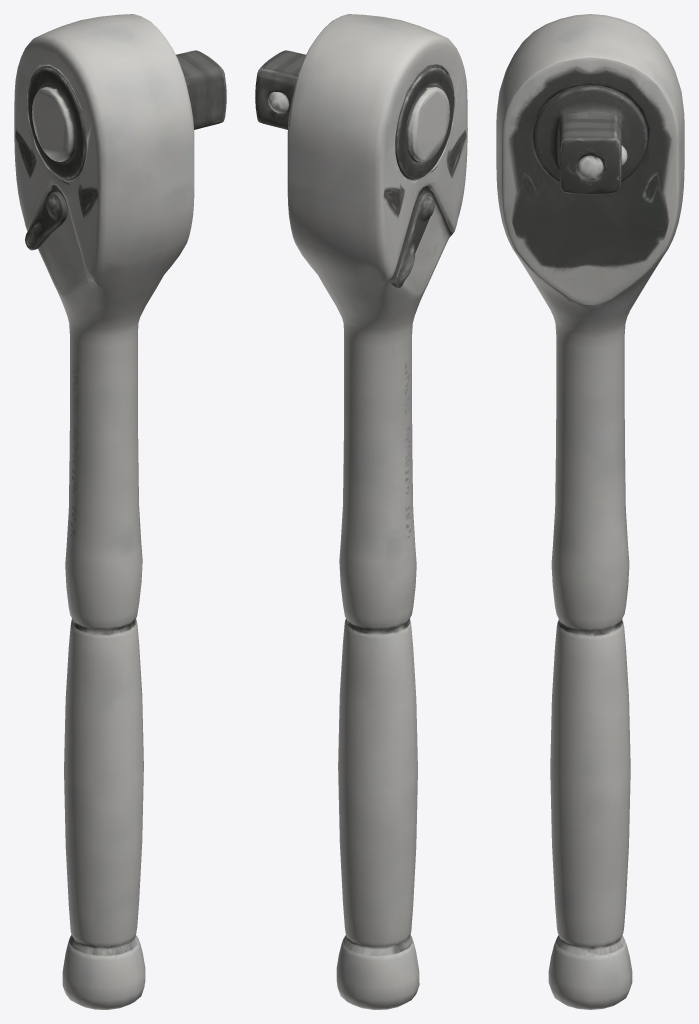
Rendered from ratchet-wrench.glb.
3 renders of one model, left to right at view 1: azimuth 30°, elevation 25°; view 2: azimuth 150°, elevation 25°; view 3: azimuth 270°, elevation 25°, orthographic.
Visible parts, largest first — view 1: ratchet_wrench; view 2: ratchet_wrench; view 3: ratchet_wrench.
Boxes of the visible parts, x1,y1,x2,y2 form: ratchet_wrench: [14, 14, 226, 1009]; ratchet_wrench: [255, 14, 467, 1009]; ratchet_wrench: [496, 14, 684, 1009].
Size of the model in its own units: 0.0441 by 0.2462 by 0.0434.
Materials: 1 (1 with a texture image).
